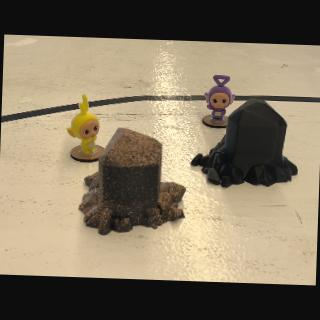teletubby: (67, 94, 100, 154), (204, 75, 235, 121)
